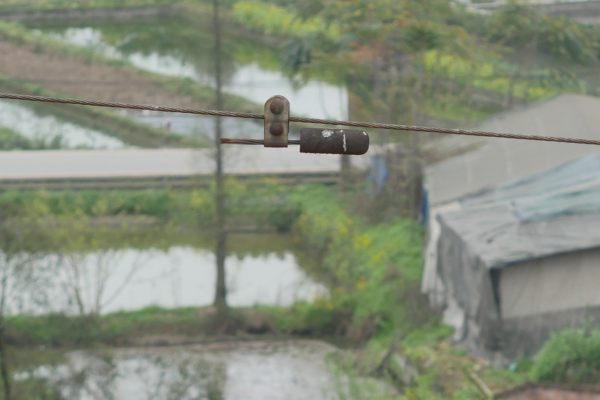damper_defect: (216, 92, 374, 156)
